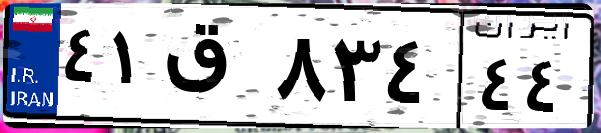1: (110, 28, 158, 98)
3: (330, 28, 385, 110)
4: (385, 28, 445, 110), (57, 26, 110, 100), (475, 38, 525, 113), (525, 38, 570, 115)
8: (270, 28, 330, 110)
ق: (158, 20, 270, 120)
